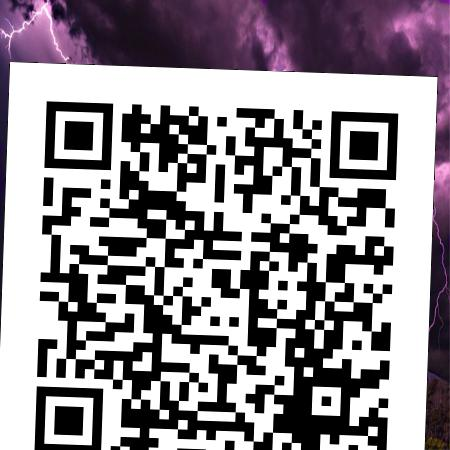qr_code: (0, 37, 437, 450)
